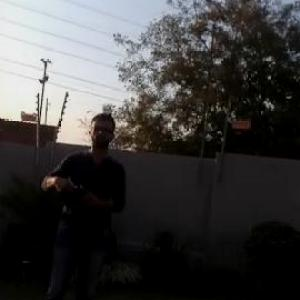follow: (37, 105, 133, 299)
